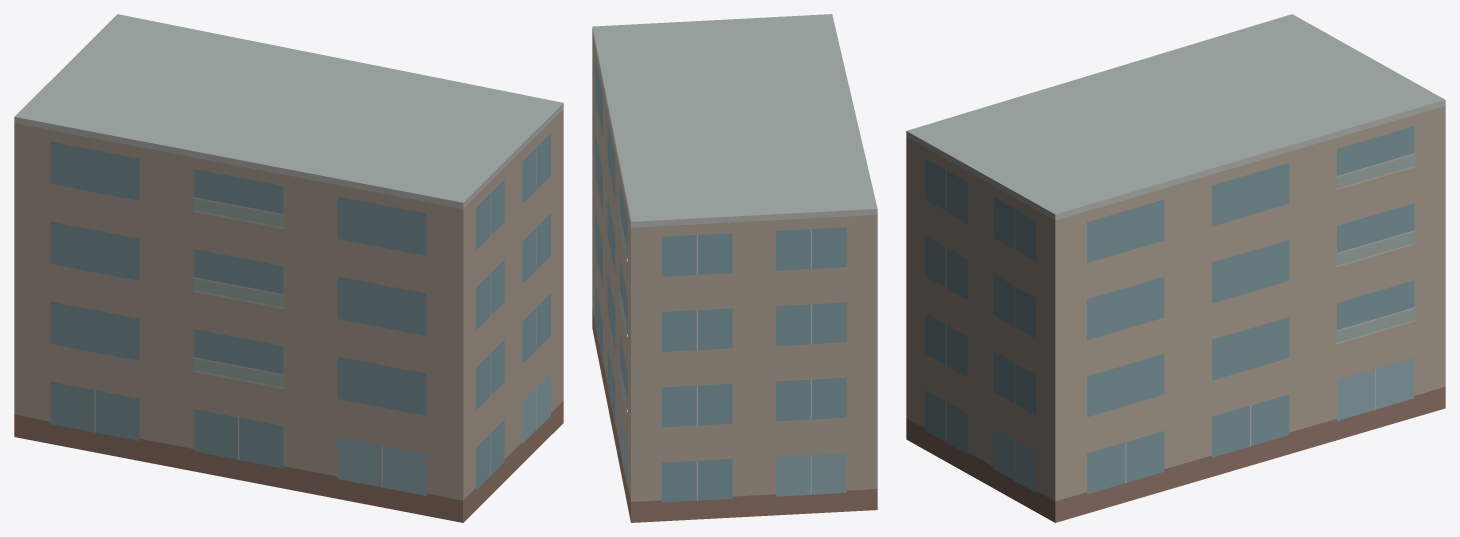
File: survey-upis-32749997.glb
3 renders of one model, left to right at view 1: azimuth 30°, elevation 25°; view 2: azimuth 150°, elevation 25°; view 3: azimuth 270°, elevation 25°, orthographic. The views are drawn at different scales.
Parts seen in each view (by area): view 1: survey-upis-32749997.tmp; view 2: survey-upis-32749997.tmp; view 3: survey-upis-32749997.tmp.
Part boxes in pixels (x1,y1,x2,y2): survey-upis-32749997.tmp: (14,14,563,522); survey-upis-32749997.tmp: (592,14,877,522); survey-upis-32749997.tmp: (906,14,1445,522).
Size of the model in its own units: 17.43 by 12.5 by 19.82.
